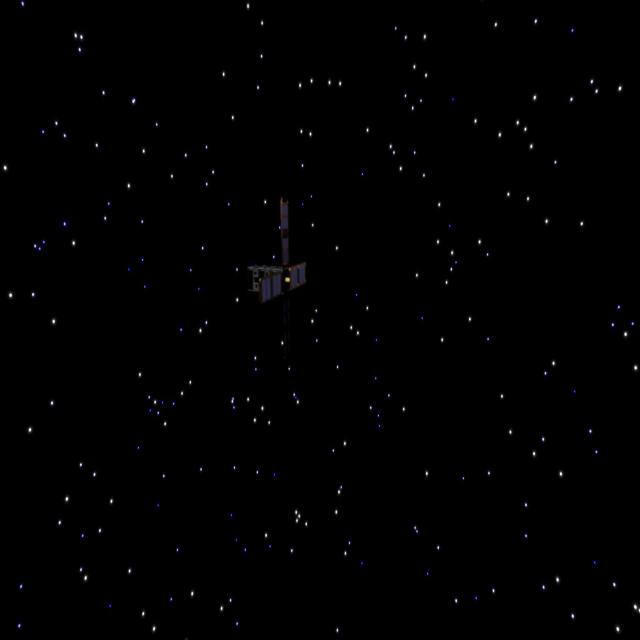medium_debris: (244, 190, 324, 318)
